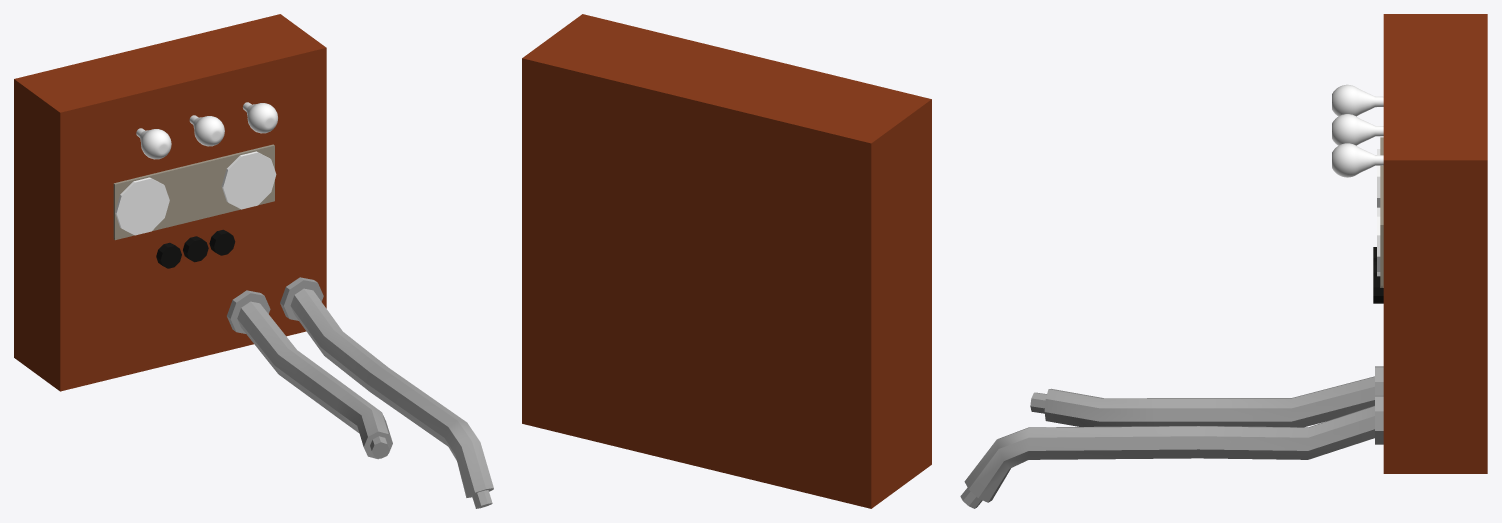
The model's file is computer.fbx.
The picture shows the model from 3 angles, left to right: view 1: azimuth 30°, elevation 25°; view 2: azimuth 150°, elevation 25°; view 3: azimuth 270°, elevation 25°; orthographic projection. The views are drawn at different scales.
Visible parts, largest first — view 1: computer, wire1, wire2, tube_ring1, tube_ring2; view 2: computer; view 3: computer, wire1, wire2.
Boxes of the visible parts, left/top/right/bottom form: computer: left=14, top=14, right=326, bottom=391; wire1: left=290, top=288, right=493, bottom=497; wire2: left=237, top=301, right=392, bottom=459; tube_ring1: left=280, top=277, right=323, bottom=320; tube_ring2: left=227, top=290, right=270, bottom=333; computer: left=522, top=14, right=931, bottom=508; computer: left=1332, top=14, right=1487, bottom=473; wire1: left=964, top=405, right=1374, bottom=502; wire2: left=1044, top=376, right=1374, bottom=427.
Size of the model in its own units: 20 by 23.08 by 30.46.
Materials: 2 (1 with a texture image).
